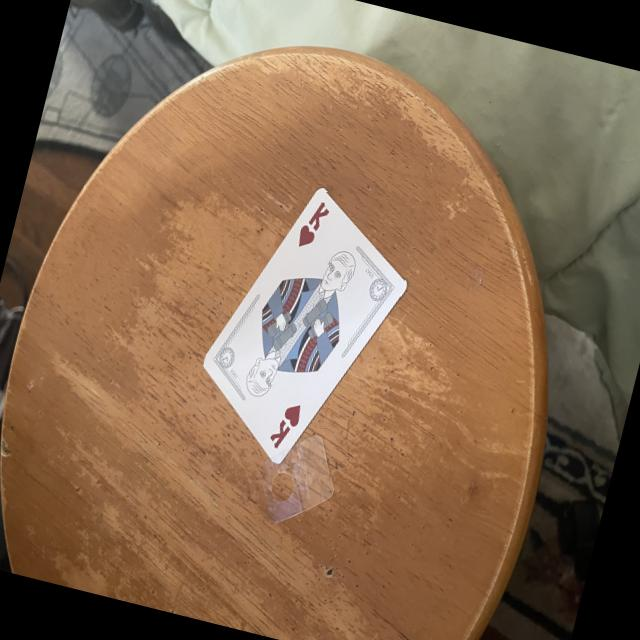King of hearts: (205, 189, 403, 461)
